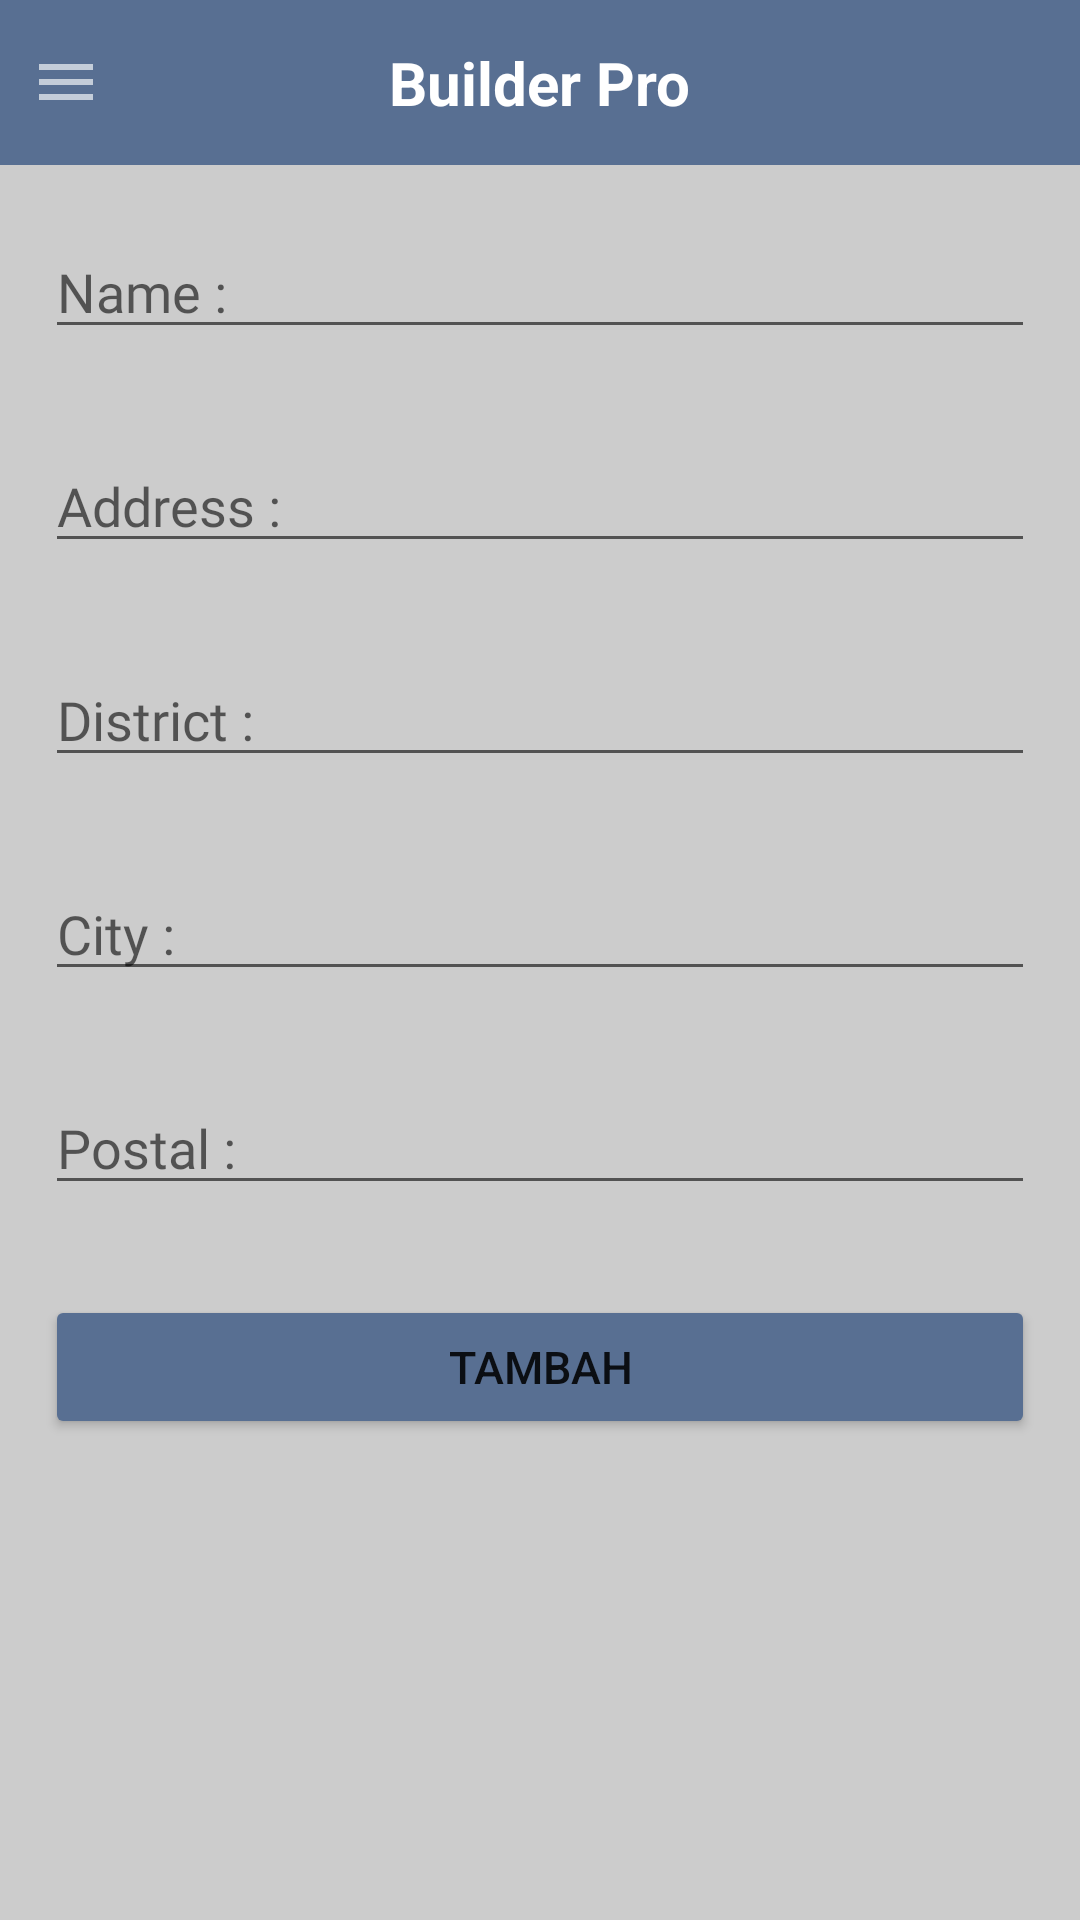

Point at icon controls on the screen. Image size 1080w x 1920h, points as [x,y].
menu: [66,82]
